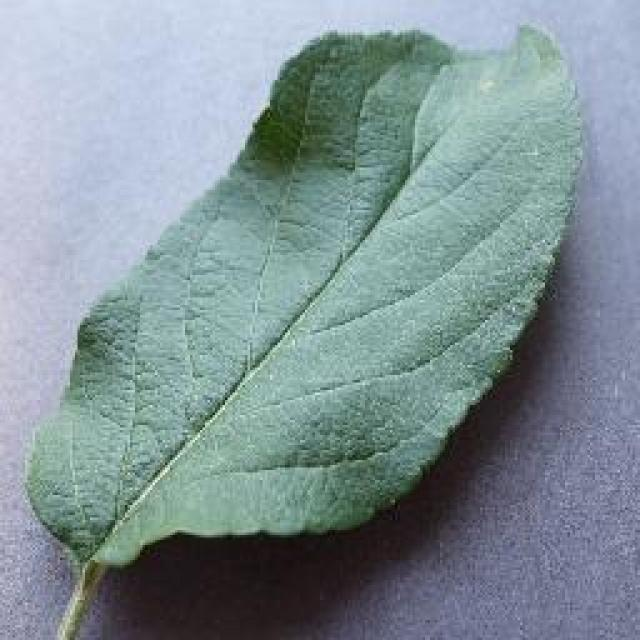apple healthy: (20, 20, 588, 638)
